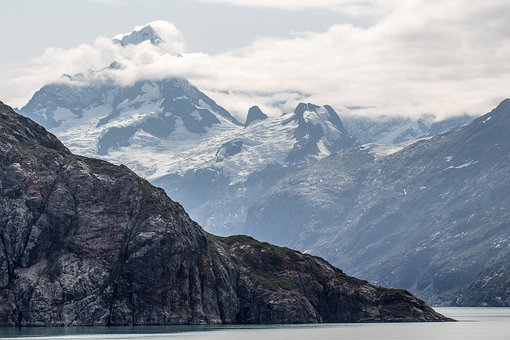mountain: (16, 60, 509, 308)
